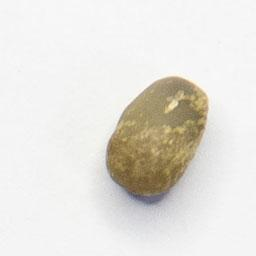peaberry: (101, 71, 213, 202)
